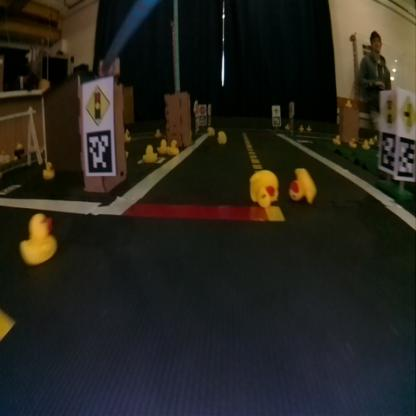Duckie: (19, 212, 56, 263), (250, 168, 278, 206), (290, 167, 314, 204), (143, 147, 157, 163), (42, 163, 54, 178), (168, 140, 179, 155), (217, 130, 226, 144), (158, 138, 166, 152), (208, 126, 213, 135)
Intersection sign: (400, 94, 413, 131)
QR code: (86, 136, 112, 174), (395, 138, 415, 178), (380, 134, 394, 172)
Signal sign: (83, 83, 109, 125), (381, 93, 397, 127)
